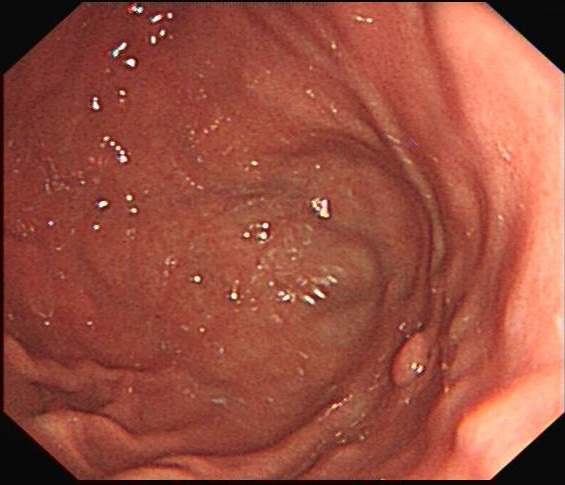Polyp: (379, 310, 446, 406)
